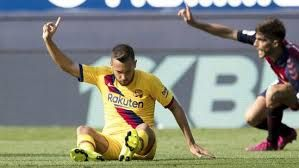fall: (32, 17, 228, 153)
